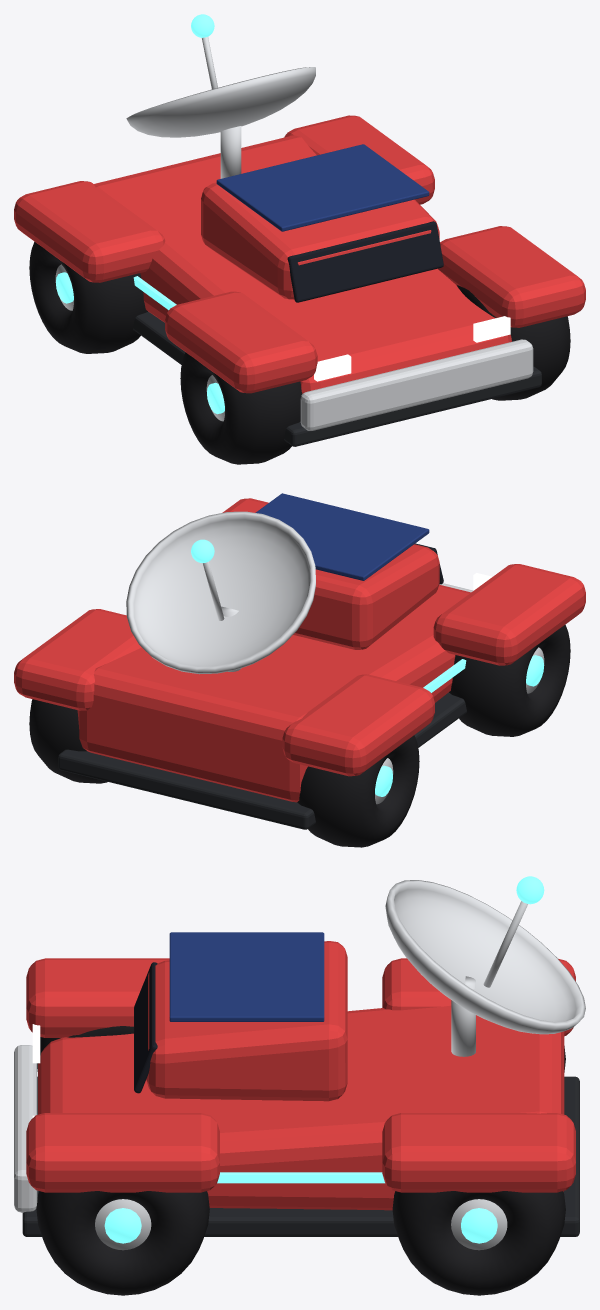
File: kart-satellite.glb
The picture shows the model from 3 angles, top to bottom: view 1: azimuth 30°, elevation 25°; view 2: azimuth 150°, elevation 25°; view 3: azimuth 270°, elevation 25°; orthographic projection. The views are drawn at different scales.
Visible parts, largest first — view 1: Hull.006, Box.026, Hull.007, Box.028, Box.029, Box.032, Box.027, Wheel_FL.002, Wheel_RL.002, Box.025, Sphere, Box.024 (+5 smaller); view 2: Hull.006, Sphere, Box.029, Box.028, Hull.007, Wheel_RL.002, Wheel_FL.002, Box.024, Box.026, Box.033, Wheel_RR.002, Box.030; view 3: Hull.006, Hull.007, Sphere, Box.032, Box.033, Wheel_RR.002, Wheel_FR.002, Box.026, Box.028, Box.024, Box.027, Box.029 (+6 smaller).
Boxes of the visible parts, x1,y1,x2,y2 form: Hull.006: [94, 135, 511, 393]; Box.026: [216, 144, 429, 231]; Hull.007: [201, 182, 439, 299]; Box.028: [165, 291, 317, 393]; Box.029: [14, 181, 165, 282]; Box.032: [438, 226, 585, 327]; Box.027: [300, 339, 533, 430]; Wheel_FL.002: [180, 352, 302, 464]; Wheel_RL.002: [29, 241, 147, 353]; Box.025: [287, 221, 443, 302]; Sphere: [126, 67, 315, 137]; Box.024: [133, 311, 541, 446]; Hull.006: [77, 584, 470, 802]; Sphere: [126, 511, 315, 674]; Box.029: [282, 674, 434, 776]; Box.028: [433, 564, 585, 665]; Hull.007: [293, 544, 439, 649]; Wheel_RL.002: [297, 735, 419, 847]; Wheel_FL.002: [449, 624, 570, 736]; Box.024: [58, 692, 466, 829]; Box.026: [255, 493, 429, 580]; Box.033: [14, 609, 141, 710]; Wheel_RR.002: [29, 699, 107, 783]; Box.030: [423, 659, 466, 692]; Hull.006: [38, 1005, 564, 1210]; Hull.007: [146, 941, 347, 1101]; Sphere: [385, 880, 585, 1034]; Box.032: [26, 1113, 219, 1192]; Box.033: [382, 1113, 575, 1192]; Wheel_RR.002: [392, 1191, 565, 1295]; Wheel_FR.002: [36, 1191, 209, 1295]; Box.026: [169, 932, 324, 1021]; Box.028: [26, 958, 169, 1037]; Box.024: [22, 1076, 579, 1236]; Box.027: [14, 1045, 37, 1212]; Box.029: [382, 958, 575, 1036].
Size of the model in its own units: 3.08 by 2.39 by 3.69.
